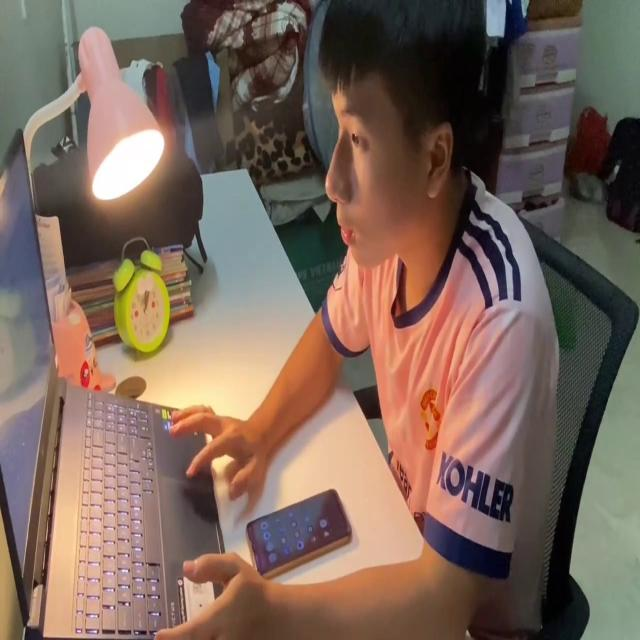laptop: (1, 126, 236, 640)
phone: (247, 480, 354, 576)
student: (170, 0, 557, 640)
